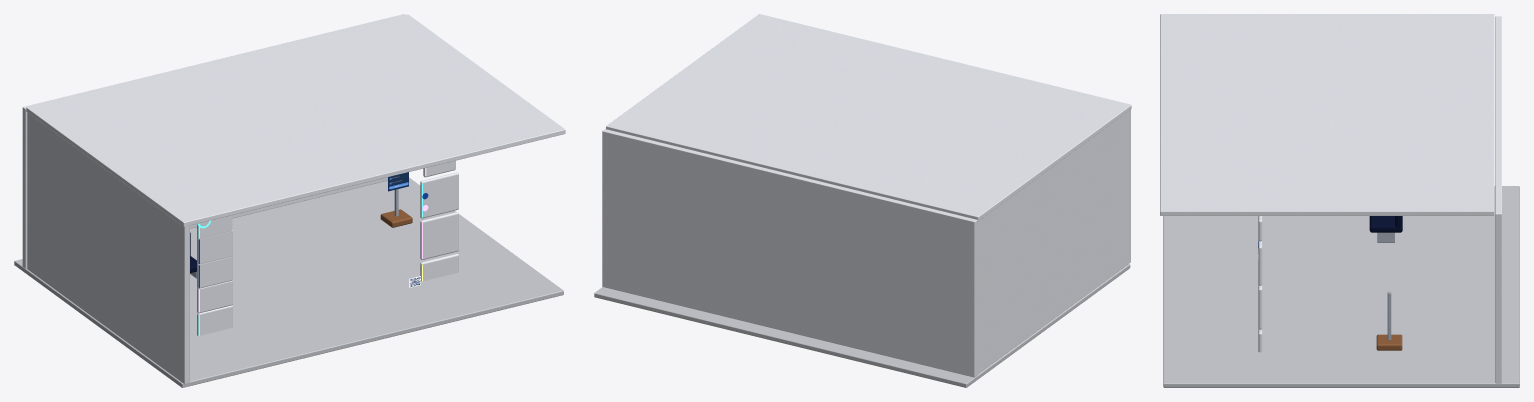
Rendered from Astikan_Health_Kiosk_V4_Web.glb.
The picture shows the model from 3 angles, left to right: view 1: azimuth 30°, elevation 25°; view 2: azimuth 150°, elevation 25°; view 3: azimuth 270°, elevation 25°; orthographic projection. The views are drawn at different scales.
Visible parts, largest first — view 1: Environment_Ceiling, Environment_Floor, Environment_LeftWall, Environment_BackWall, POPULAR SERVICES_Card, AVAILABLE DOCTORS_Card, TODAY'S APPOINTMENT_Card, MEDICATION REMINDER_Card, HEALTH REMINDER_Card, KIOSK STATUS_Card, OFFERS FOR YOU_Card, AI HEALTH SCORE_Card; view 2: Environment_BackWall, Environment_Ceiling, Environment_LeftWall, Environment_Floor; view 3: Environment_Ceiling, Environment_Floor, Environment_BackWall, Waiting_Seat_1, Info_Stand_Base.
Part boxes in pixels (<box>): Environment_Ceiling: <box>26,14,565,226</box>; Environment_Floor: <box>14,177,563,387</box>; Environment_LeftWall: <box>27,113,189,384</box>; Environment_BackWall: <box>22,14,405,268</box>; POPULAR SERVICES_Card: <box>420,212,458,259</box>; AVAILABLE DOCTORS_Card: <box>420,172,458,218</box>; TODAY'S APPOINTMENT_Card: <box>197,230,232,264</box>; MEDICATION REMINDER_Card: <box>197,280,232,313</box>; HEALTH REMINDER_Card: <box>197,256,232,288</box>; KIOSK STATUS_Card: <box>197,305,232,335</box>; OFFERS FOR YOU_Card: <box>420,253,458,281</box>; AI HEALTH SCORE_Card: <box>197,215,232,238</box>; Environment_BackWall: <box>602,129,977,377</box>; Environment_Ceiling: <box>606,14,1131,220</box>; Environment_LeftWall: <box>977,110,1130,374</box>; Environment_Floor: <box>594,264,1130,387</box>; Environment_Ceiling: <box>1160,14,1494,215</box>; Environment_Floor: <box>1163,186,1519,387</box>; Environment_BackWall: <box>1495,16,1501,383</box>; Waiting_Seat_1: <box>1369,216,1402,232</box>; Info_Stand_Base: <box>1376,334,1402,350</box>.
Size of the model in its own units: 21 by 8.91 by 16.15.
Materials: 13 (7 with a texture image).
